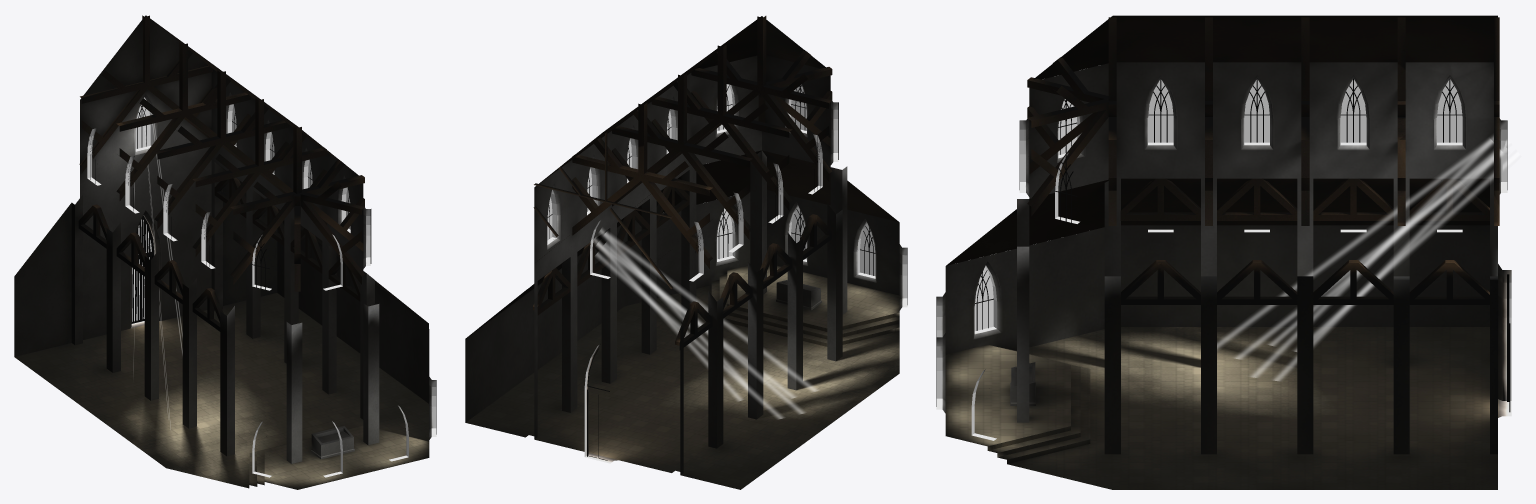
The model's file is Low-poly_VR_Game_Ready_Interior_Temple_Scene.glb.
The picture shows the model from 3 angles, left to right: view 1: azimuth 30°, elevation 25°; view 2: azimuth 150°, elevation 25°; view 3: azimuth 270°, elevation 25°; orthographic projection. The views are drawn at different scales.
Visible parts, largest first — view 1: BUILDING__0, vigueria_vigueria_0, ventanas_windows_0, door_door_0; view 2: BUILDING__0, vigueria_vigueria_0, sunbeams_sunbeams_0, ventanas_windows_0; view 3: BUILDING__0, vigueria_vigueria_0, sunbeams_sunbeams_0, ventanas_windows_0.
Part boxes in pixels (left/top/right/bottom): BUILDING__0: left=14, top=15, right=436, bottom=489; vigueria_vigueria_0: left=78, top=15, right=364, bottom=331; ventanas_windows_0: left=132, top=105, right=350, bottom=321; door_door_0: left=131, top=215, right=154, bottom=323; BUILDING__0: left=465, top=16, right=907, bottom=489; vigueria_vigueria_0: left=533, top=16, right=832, bottom=350; sunbeams_sunbeams_0: left=593, top=228, right=818, bottom=445; ventanas_windows_0: left=547, top=84, right=875, bottom=276; BUILDING__0: left=936, top=15, right=1511, bottom=489; vigueria_vigueria_0: left=1027, top=17, right=1499, bottom=304; sunbeams_sunbeams_0: left=1217, top=135, right=1520, bottom=380; ventanas_windows_0: left=974, top=79, right=1462, bottom=330.
Size of the model in its own units: 12 by 15.71 by 18.24.
5 materials, 3 textured.
